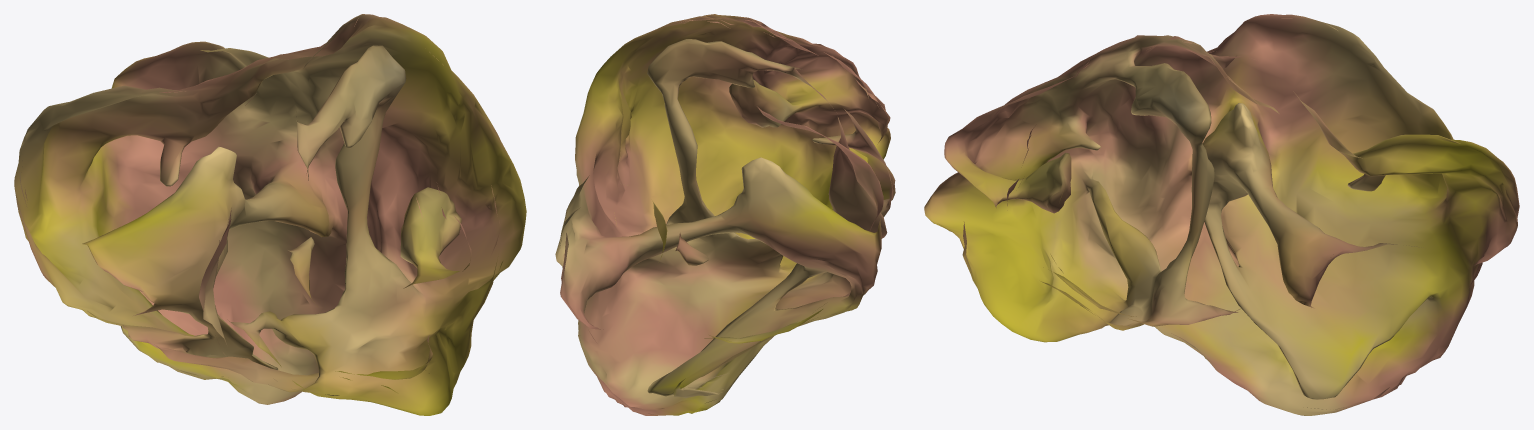
The model's file is Cloud2_LOD2.glb.
The picture shows the model from 3 angles, left to right: view 1: azimuth 30°, elevation 25°; view 2: azimuth 150°, elevation 25°; view 3: azimuth 270°, elevation 25°; orthographic projection. The views are drawn at different scales.
Parts seen in each view (by area): view 1: Cloud2_LOD2; view 2: Cloud2_LOD2; view 3: Cloud2_LOD2.
Part boxes in pixels (<box>): Cloud2_LOD2: <box>14,14,526,415</box>; Cloud2_LOD2: <box>555,14,895,415</box>; Cloud2_LOD2: <box>924,14,1519,415</box>.
Bounding box in the file's own units: 0.7002 × 0.6979 × 0.999.
